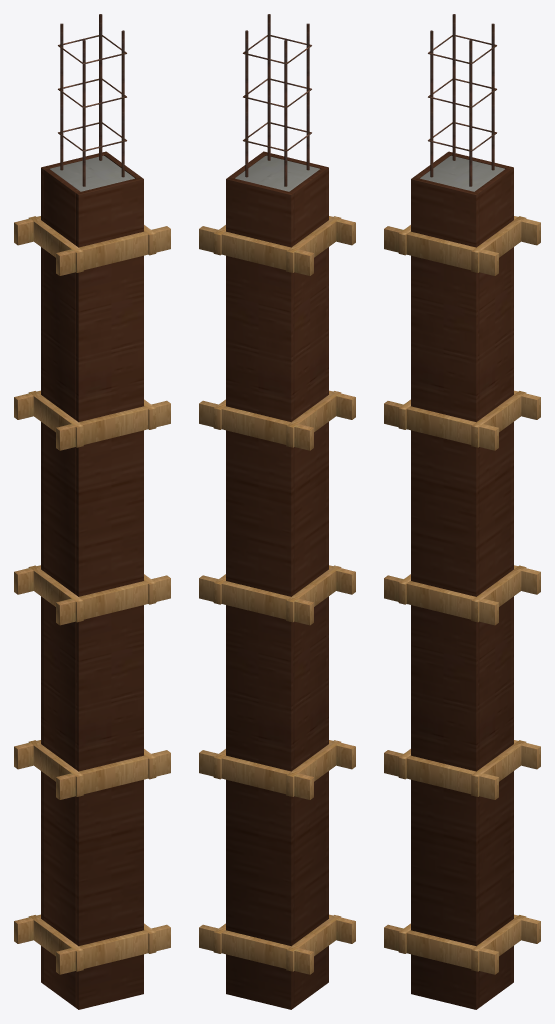
The model's file is KIT-EST-01_lod1.glb.
3 views of the same model, side by side, from view 1: azimuth 30°, elevation 25°; view 2: azimuth 150°, elevation 25°; view 3: azimuth 330°, elevation 25° (orthographic).
Parts seen in each view (by area): view 1: KIT-EST-01_fy, KIT-EST-01_fx, KIT-EST-01_grav.016, KIT-EST-01_grav.004, KIT-EST-01_grav, KIT-EST-01_grav.008, KIT-EST-01_grav.012, KIT-EST-01_fy.001, KIT-EST-01_pilar, KIT-EST-01_grav.014, KIT-EST-01_grav.002, KIT-EST-01_grav.006 (+11 smaller); view 2: KIT-EST-01_fy.001, KIT-EST-01_fx, KIT-EST-01_grav.005, KIT-EST-01_grav.017, KIT-EST-01_grav.009, KIT-EST-01_grav.013, KIT-EST-01_grav.001, KIT-EST-01_fy, KIT-EST-01_pilar, KIT-EST-01_grav.006, KIT-EST-01_grav.002, KIT-EST-01_grav.014 (+11 smaller); view 3: KIT-EST-01_fy, KIT-EST-01_fx.001, KIT-EST-01_grav.004, KIT-EST-01_grav.016, KIT-EST-01_grav.008, KIT-EST-01_grav, KIT-EST-01_grav.012, KIT-EST-01_fy.001, KIT-EST-01_pilar, KIT-EST-01_grav.015, KIT-EST-01_grav.003, KIT-EST-01_grav.007 (+11 smaller).
Part boxes in pixels (x1,y1,x2,y2): KIT-EST-01_fy: [76, 177, 143, 1009]; KIT-EST-01_fx: [43, 168, 80, 1007]; KIT-EST-01_grav.016: [56, 226, 170, 275]; KIT-EST-01_grav.004: [56, 750, 170, 799]; KIT-EST-01_grav: [56, 924, 170, 974]; KIT-EST-01_grav.008: [56, 575, 170, 625]; KIT-EST-01_grav.012: [56, 400, 170, 450]; KIT-EST-01_fy.001: [41, 151, 108, 983]; KIT-EST-01_pilar: [50, 155, 134, 191]; KIT-EST-01_grav.014: [28, 391, 83, 447]; KIT-EST-01_grav.002: [28, 915, 83, 971]; KIT-EST-01_grav.006: [28, 740, 83, 796]; KIT-EST-01_fy.001: [226, 177, 293, 1009]; KIT-EST-01_fx: [289, 168, 326, 1007]; KIT-EST-01_grav.005: [199, 750, 313, 799]; KIT-EST-01_grav.017: [199, 226, 313, 275]; KIT-EST-01_grav.009: [199, 575, 313, 625]; KIT-EST-01_grav.013: [199, 400, 313, 450]; KIT-EST-01_grav.001: [199, 924, 313, 974]; KIT-EST-01_fy: [261, 151, 328, 983]; KIT-EST-01_pilar: [235, 155, 319, 191]; KIT-EST-01_grav.006: [286, 740, 341, 796]; KIT-EST-01_grav.002: [286, 915, 341, 971]; KIT-EST-01_grav.014: [286, 391, 341, 447]; KIT-EST-01_fy: [411, 177, 478, 1009]; KIT-EST-01_fx.001: [474, 168, 511, 1007]; KIT-EST-01_grav.004: [384, 750, 498, 799]; KIT-EST-01_grav.016: [384, 226, 498, 275]; KIT-EST-01_grav.008: [384, 575, 498, 625]; KIT-EST-01_grav: [384, 924, 498, 974]; KIT-EST-01_grav.012: [384, 401, 498, 450]; KIT-EST-01_fy.001: [446, 151, 513, 983]; KIT-EST-01_pilar: [420, 155, 504, 191]; KIT-EST-01_grav.015: [471, 391, 526, 447]; KIT-EST-01_grav.003: [471, 915, 526, 971]; KIT-EST-01_grav.007: [471, 740, 526, 796].
Size of the model in its own units: 0.4 by 3.3 by 0.3.
4 materials, 4 textured.
